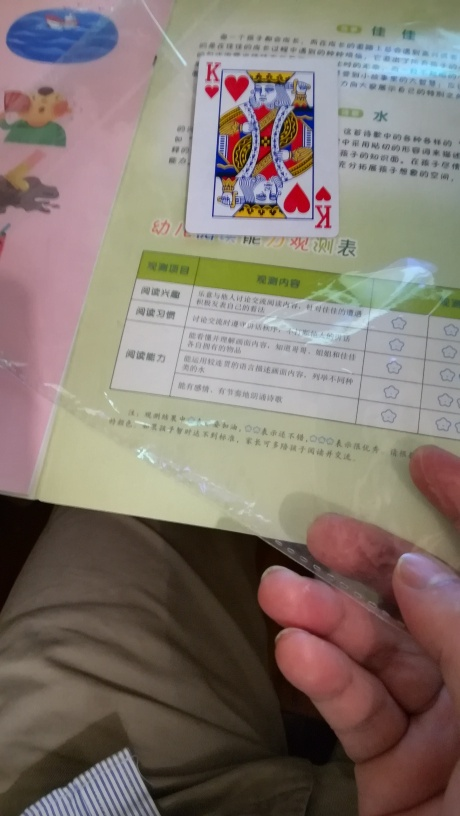hx k: (186, 54, 343, 236)
